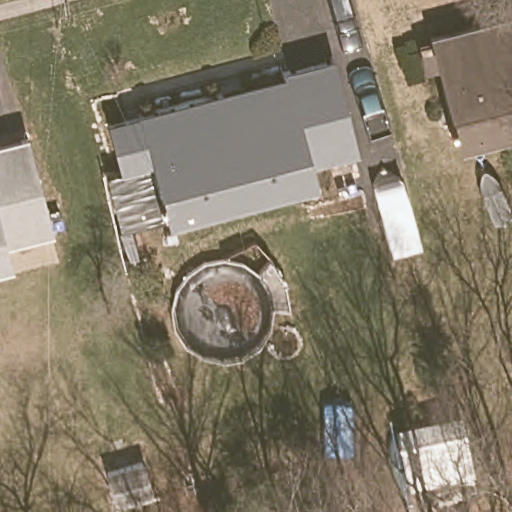DT: (59, 1, 77, 26)
